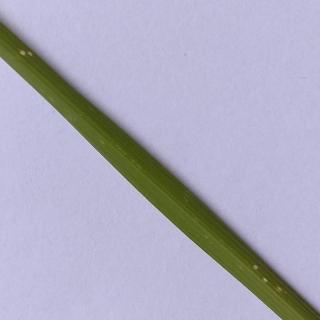Blast: (245, 260, 291, 296), (15, 45, 37, 63)
